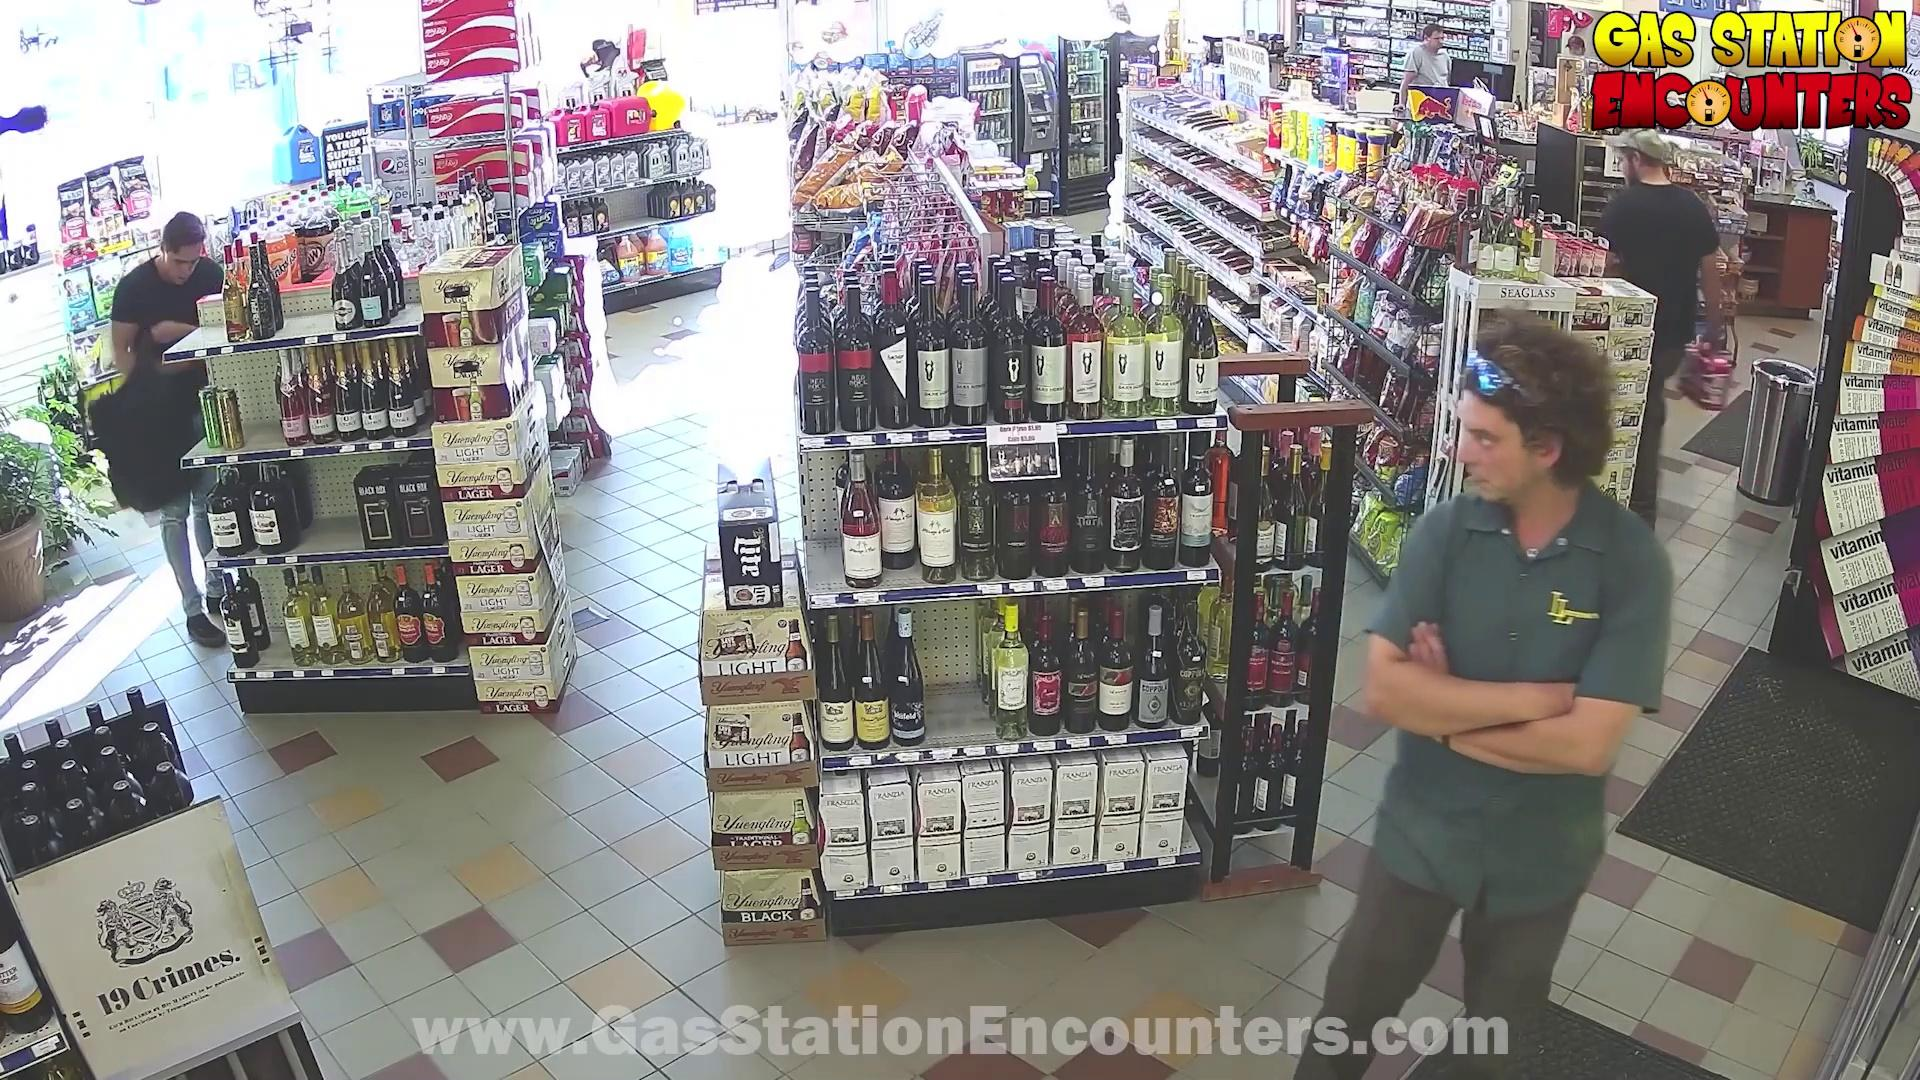Customer-Bagpack: (75, 348, 183, 489)
Product: (1691, 340, 1747, 409)
Product-Picked: (1606, 117, 1801, 516)
Regular: (1332, 293, 1681, 1076), (11, 162, 255, 695), (1445, 422, 1469, 430), (1287, 305, 1313, 306), (1451, 293, 1453, 295)
